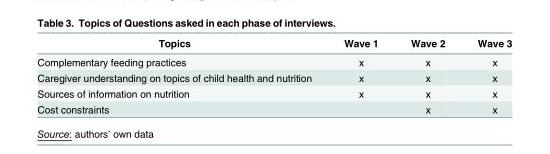table: (36, 36, 511, 114)
table column: (36, 36, 327, 114), (393, 36, 460, 114), (327, 36, 393, 114), (460, 36, 511, 114)
table column header: (36, 36, 511, 52)
table row: (36, 52, 511, 69), (36, 36, 511, 52), (36, 69, 511, 85), (36, 85, 511, 101), (36, 101, 511, 114)
